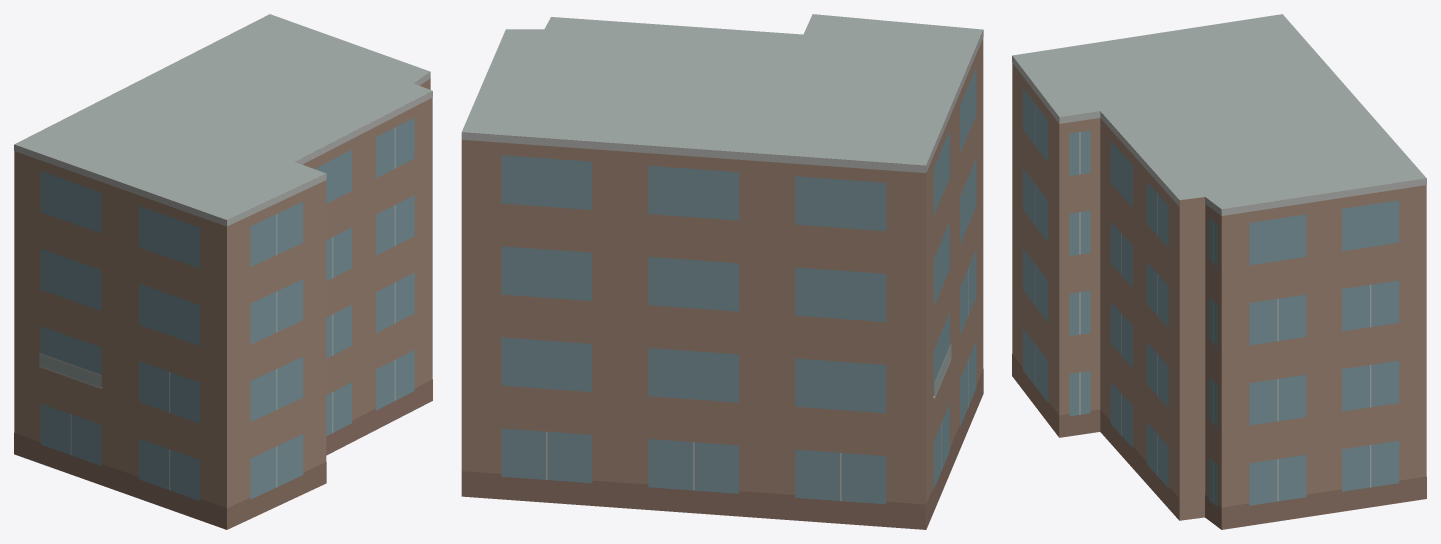
Rendered from survey-upis-32853023.glb.
3 views of the same model, side by side, from view 1: azimuth 30°, elevation 25°; view 2: azimuth 150°, elevation 25°; view 3: azimuth 270°, elevation 25° (orthographic). The views are drawn at different scales.
Visible parts, largest first — view 1: survey-upis-32853023.tmp; view 2: survey-upis-32853023.tmp; view 3: survey-upis-32853023.tmp.
Part boxes in pixels (<box>): survey-upis-32853023.tmp: <box>14,14,432,529</box>; survey-upis-32853023.tmp: <box>461,14,983,529</box>; survey-upis-32853023.tmp: <box>1012,14,1426,529</box>.
Bounding box in the file's own units: 15.2 × 11.62 × 13.64.
